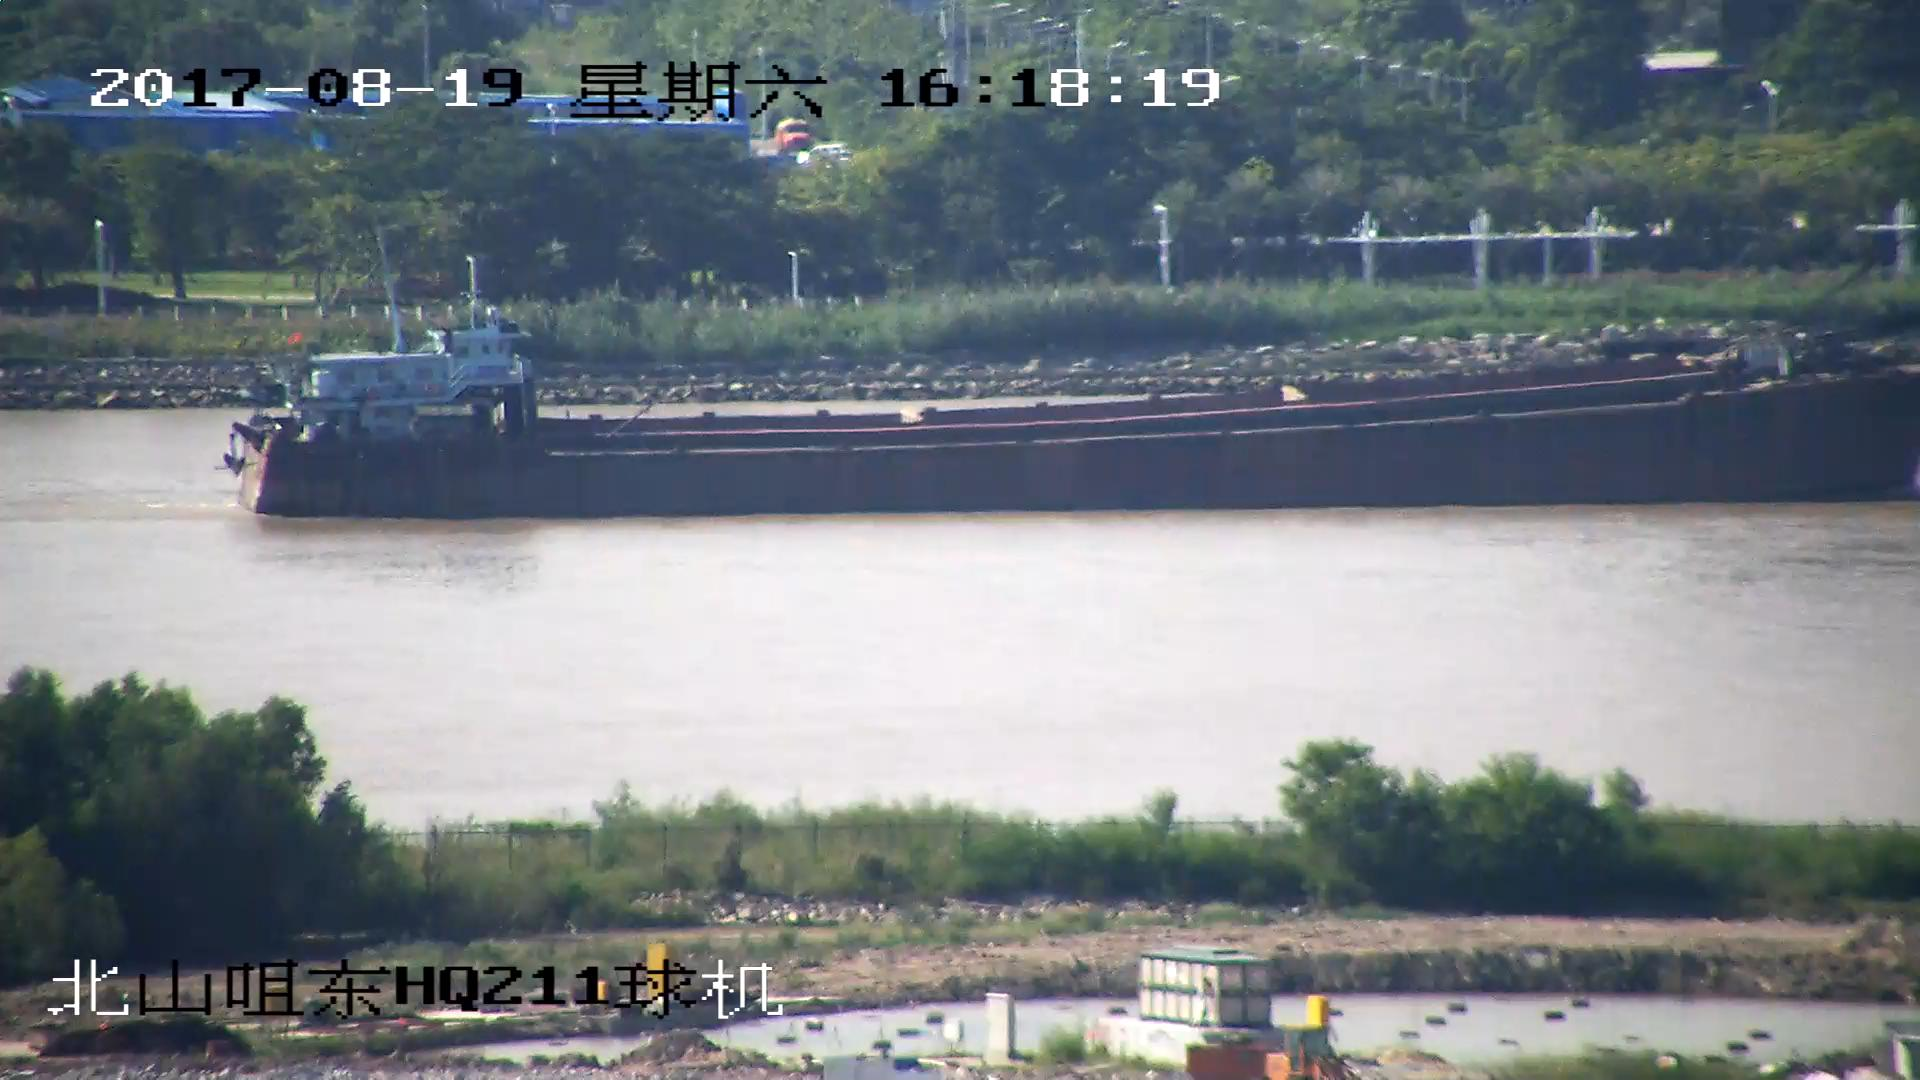bulk cargo carrier: (227, 312, 1920, 519)
